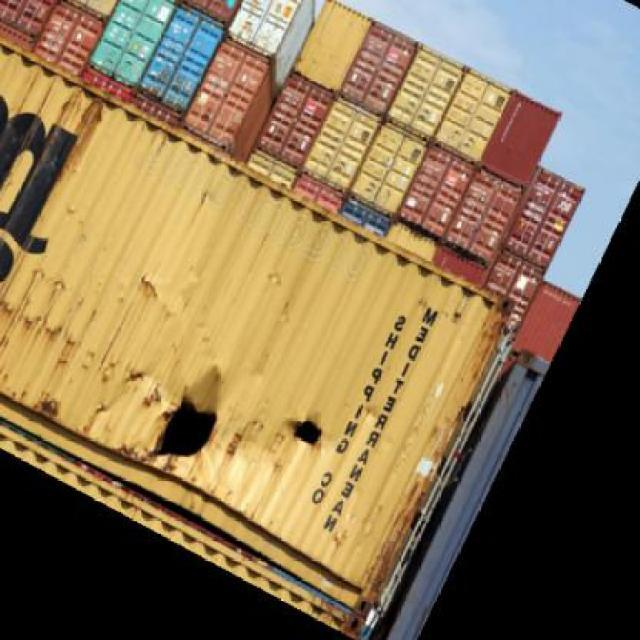hole: (128, 391, 244, 474), (261, 392, 344, 474)
rust: (6, 281, 106, 392)
